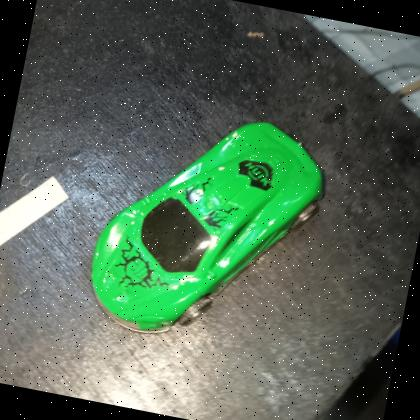Car: (90, 122, 325, 332)
